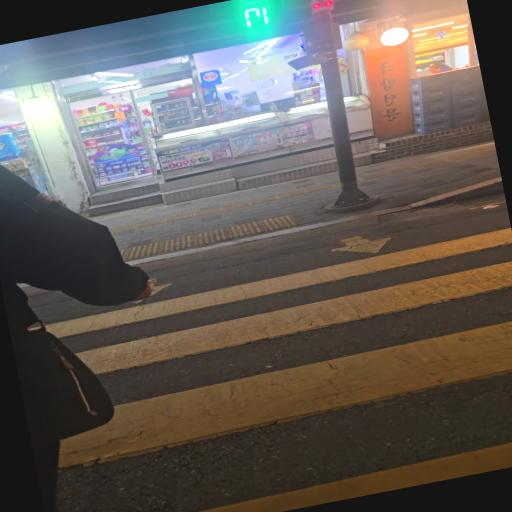yellow-crosswalk: (2, 193, 512, 512)
